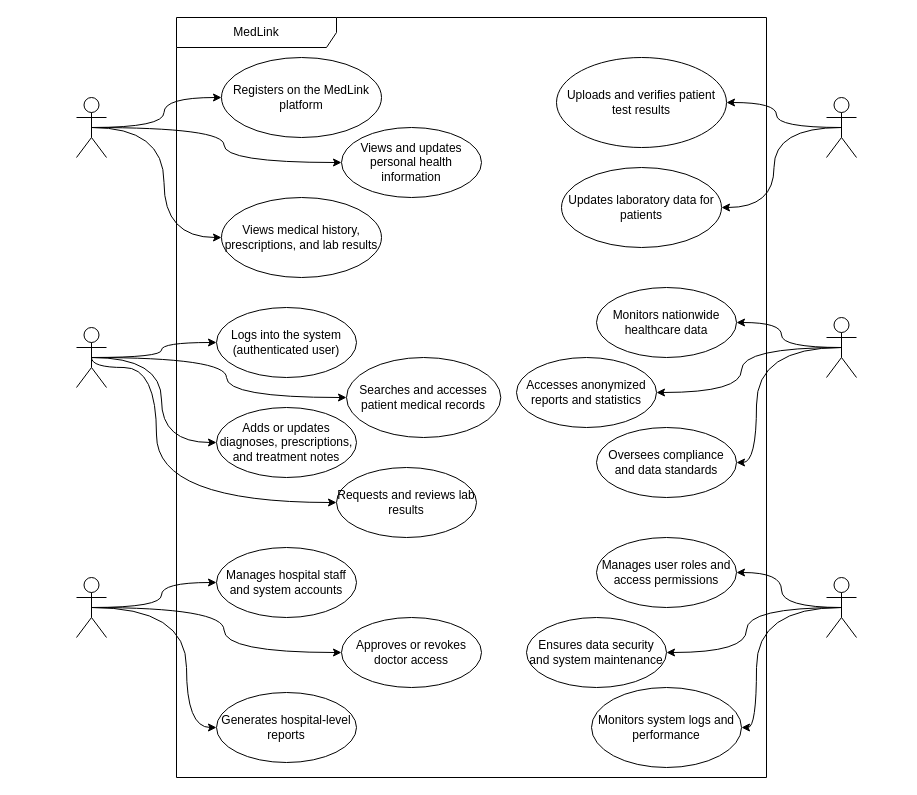
Some shapes in this 917 by 795 pixel diagram are drawn without their labels. Here are the shapes that lost their labels. From the top down, the centre of each, then its label:
[91,127]: Patient
[841,127]: Laboratory Technician
[91,357]: Doctor
[841,347]: Ministry of Health
[91,607]: Hospital/Clinic Administrator
[841,607]: System Administrator
